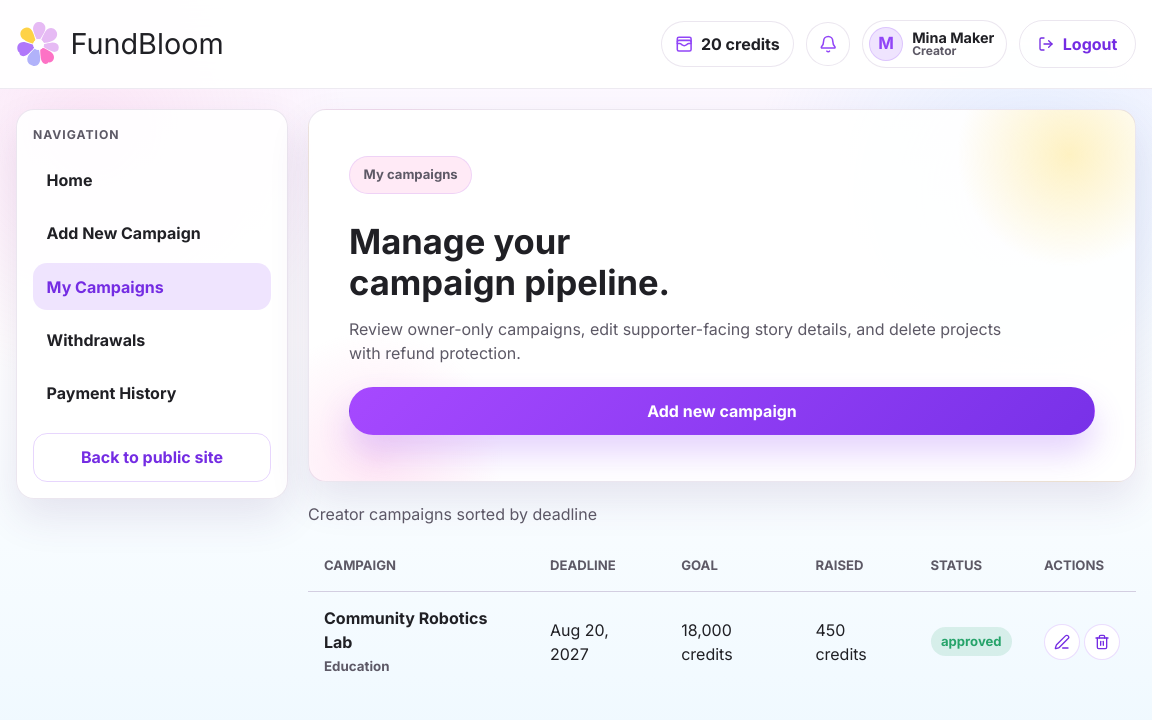
Test: creator campaign dashboard pages › lists creator campaigns and supports update and delete actions
Check: the heading "Manage your campaign pipeline." is shown, box [349,214,722,303]
Check: the text "Community Robotics Lab" is shown, box [324,608,487,652]
Click the button named "update community robotics lab" at [1062, 642], box [1044,624,1080,660]
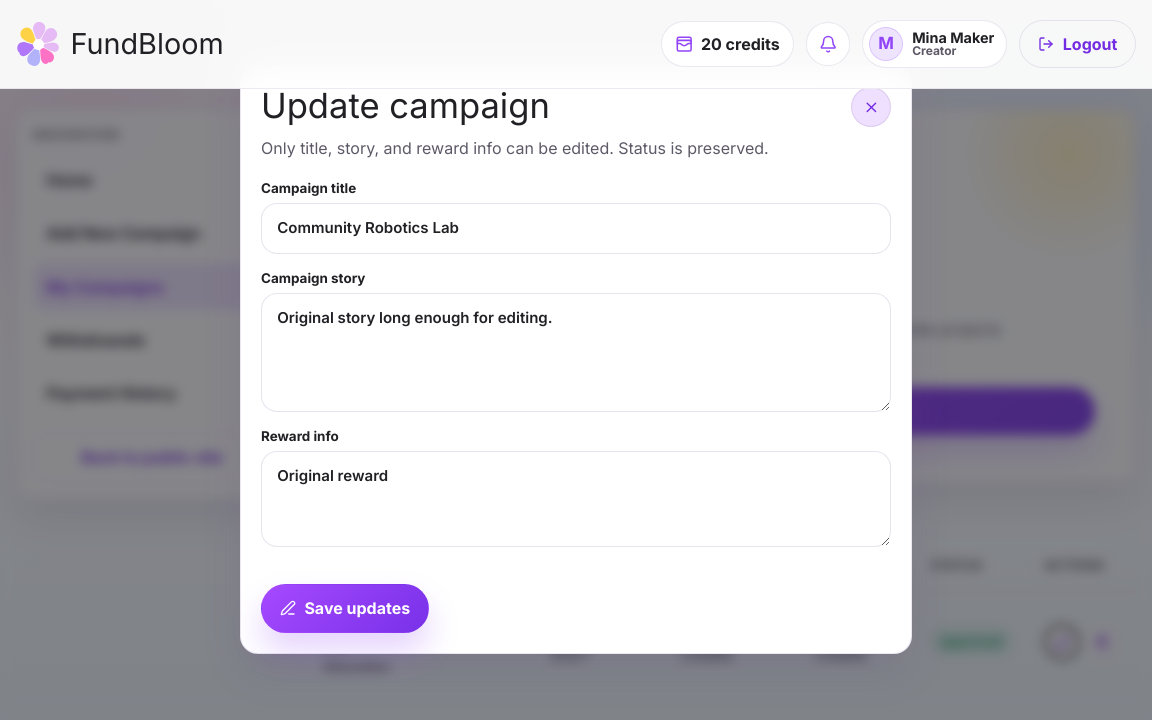
Replace the text in the field labelled "Campaign title" with "Updated Robotics Lab" at [576, 228], box [261,203,891,254]
Replace the text in the text box labelled "Campaign story" with "Updated campaign story that keeps supporters aligned with project progress." at [576, 352], box [261,293,891,412]
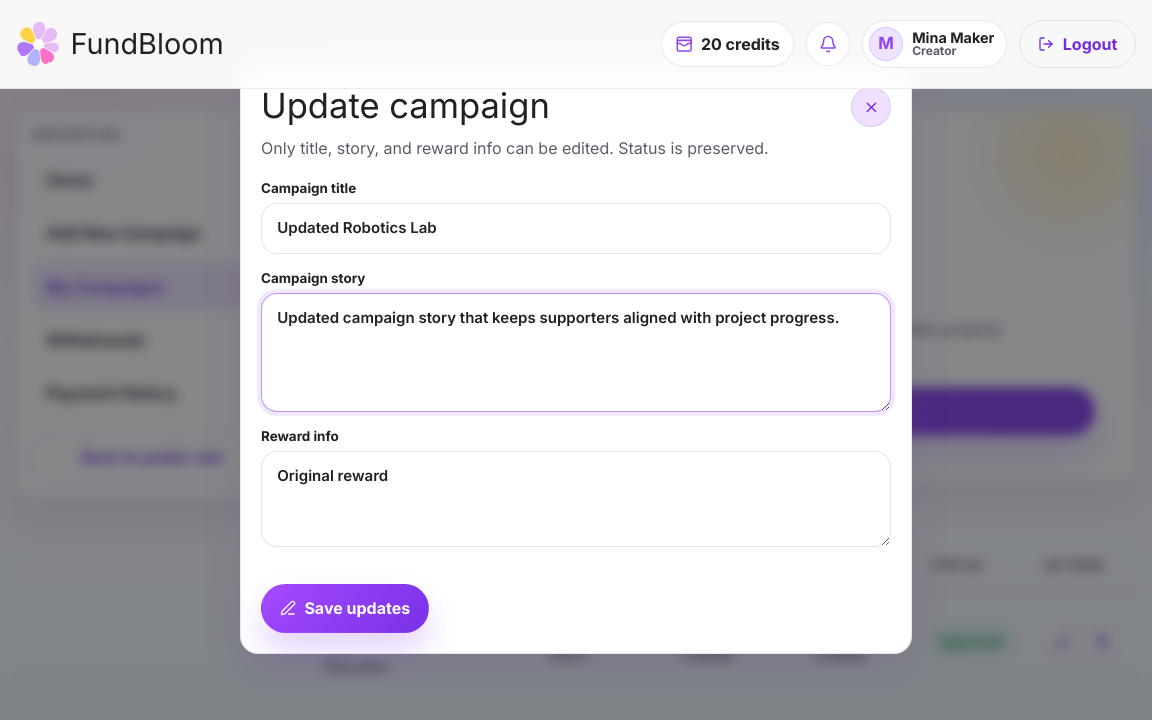
Replace the text in the text box labelled "Reward info" with "Updated reward details." at [576, 499], box [261,451,891,547]
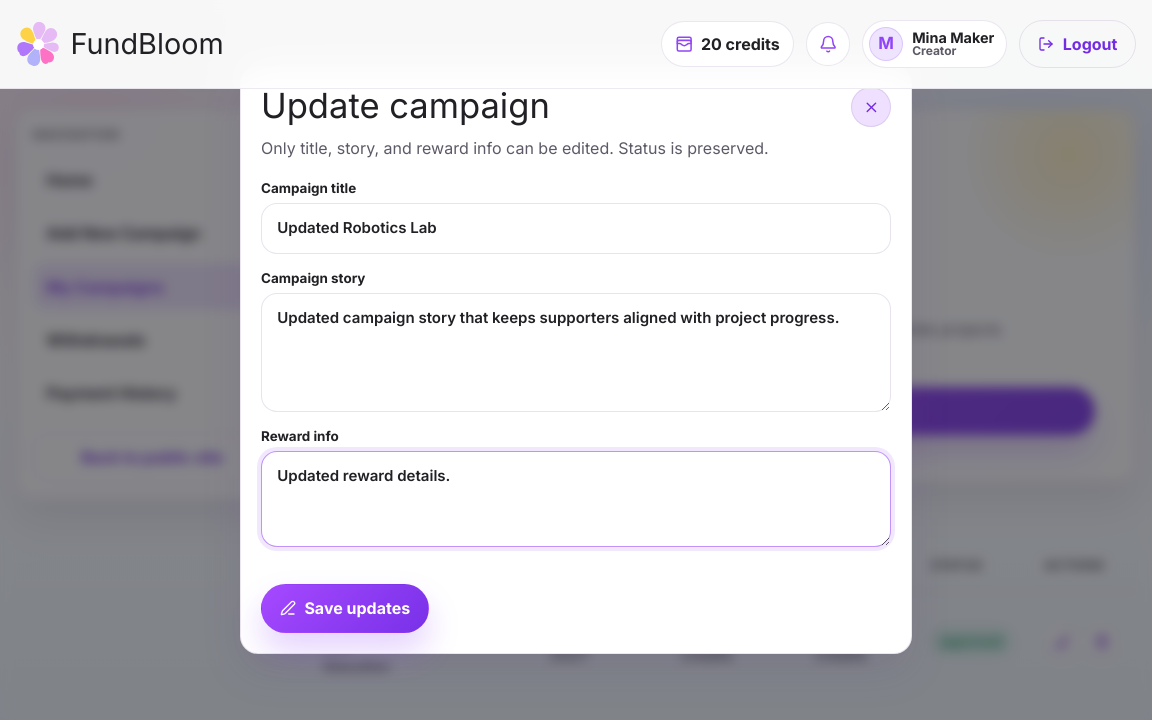
Click the button "Save updates" at [345, 608], box [261,584,429,633]
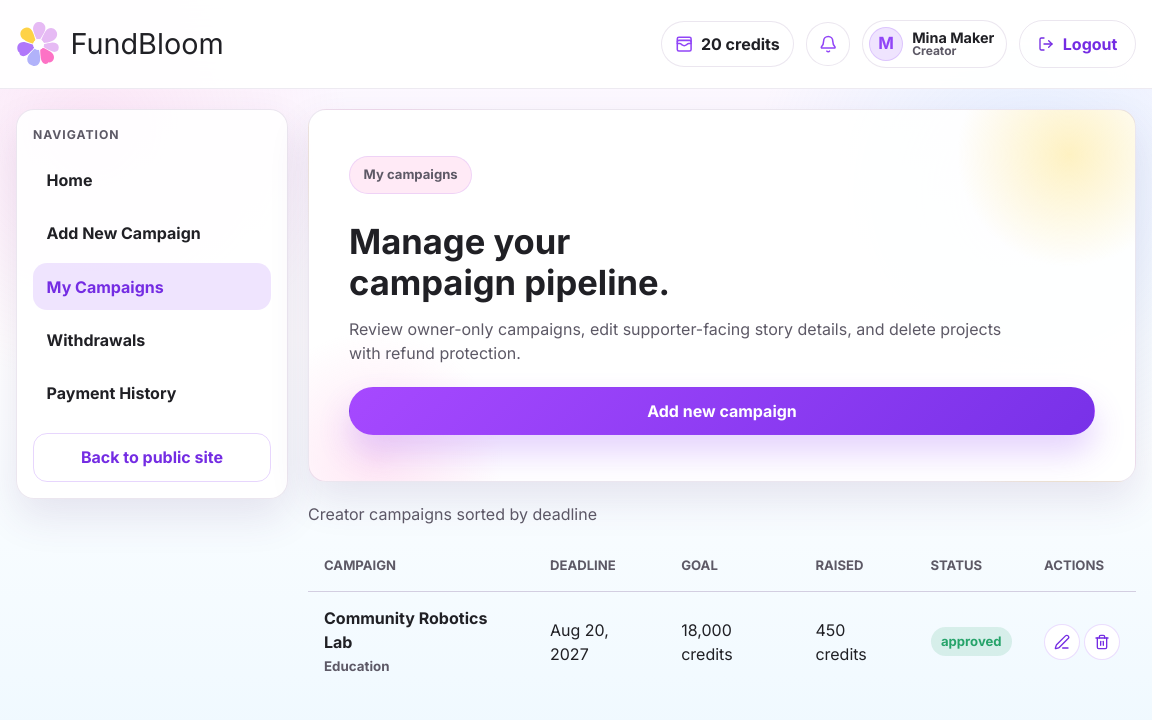
Click the button named "delete community robotics lab" at [1102, 642], box [1084,624,1120,660]
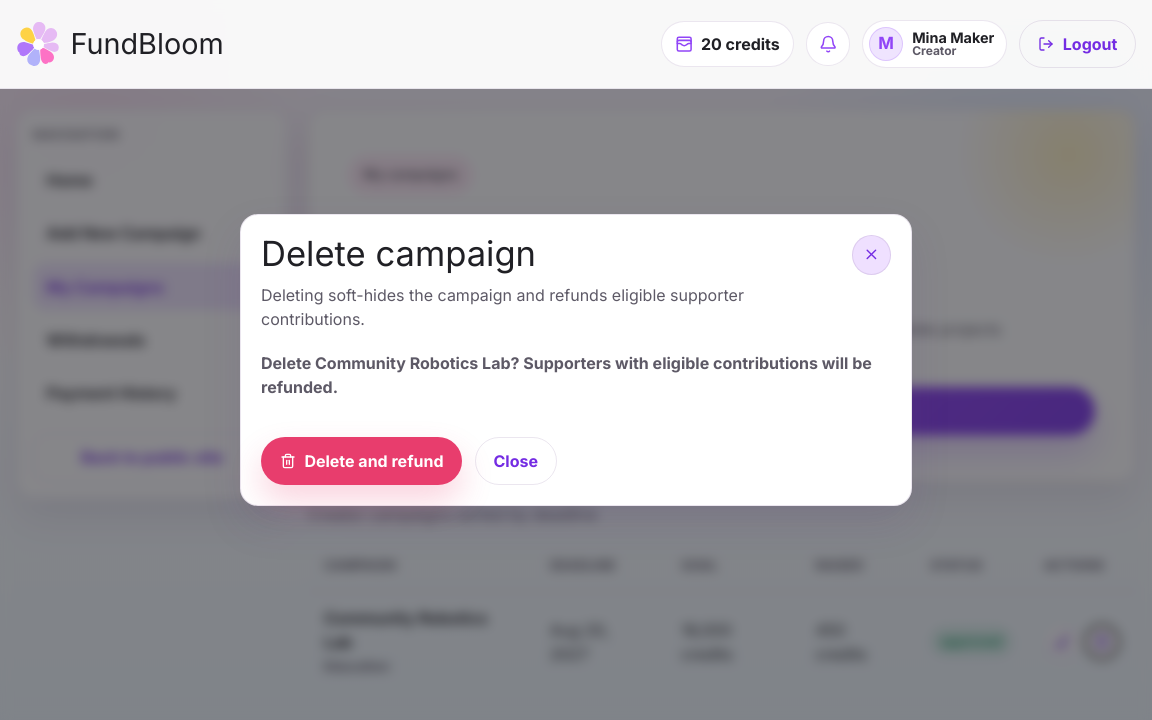
Click the button "Delete and refund" at [362, 461], box [261,437,462,485]
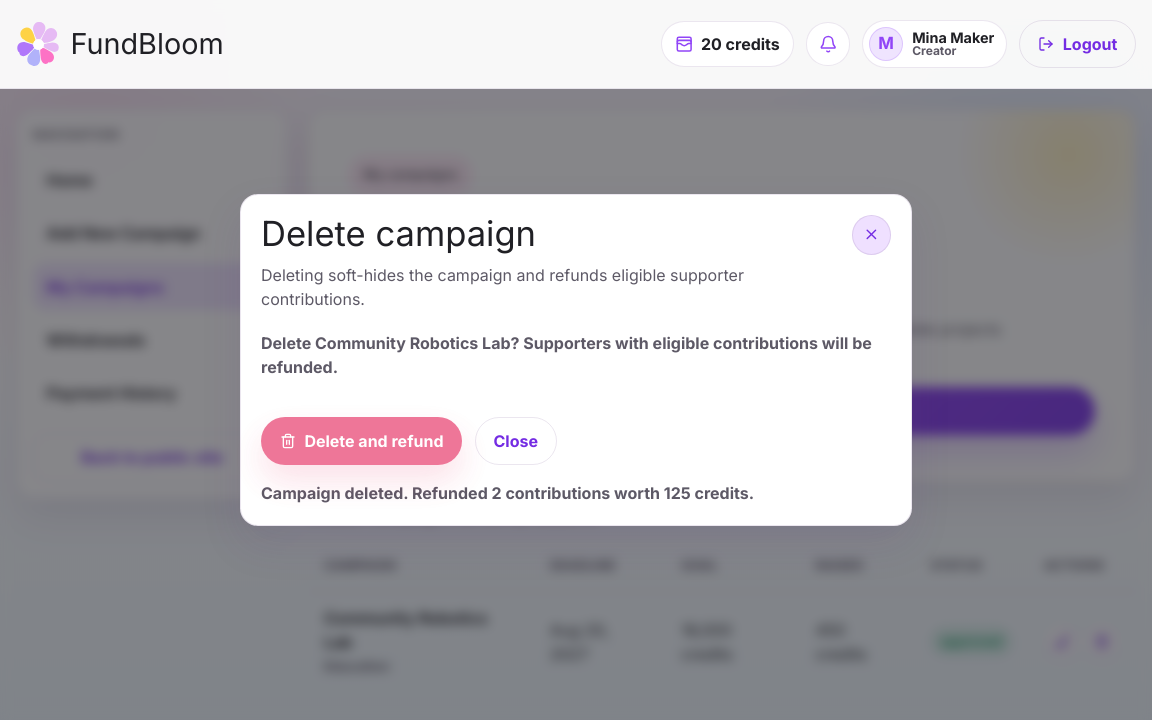
Check: the text "Refunded 2 contributions worth 125 credits" is shown, box [261,483,754,503]
